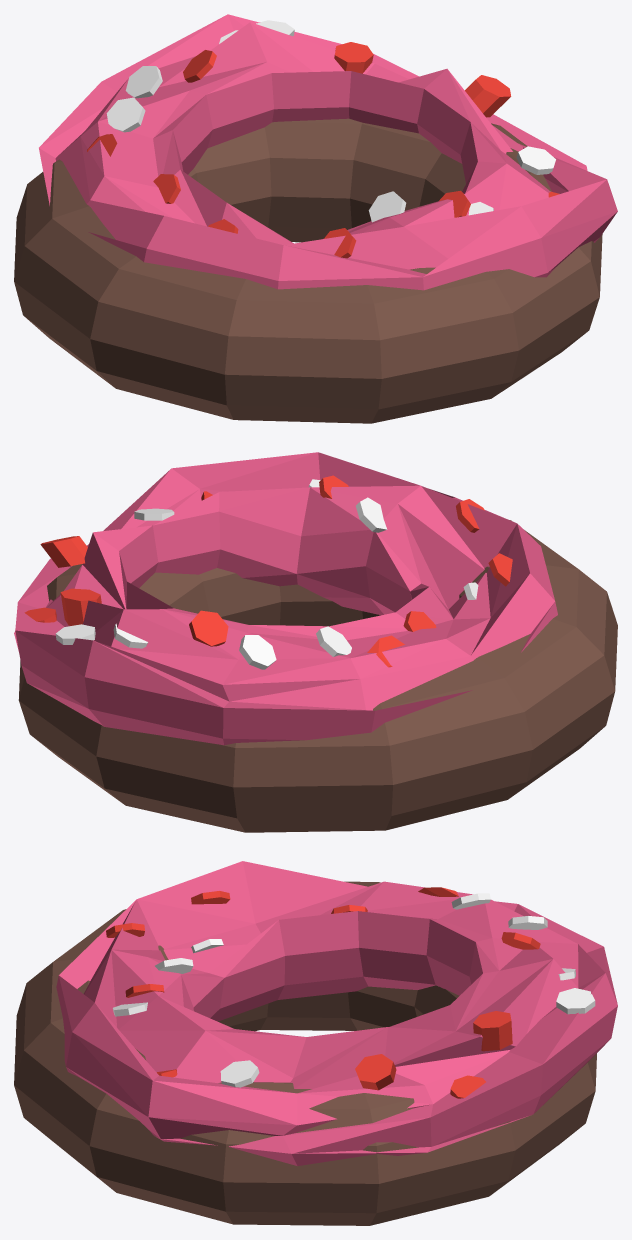
Rendered from Strawberryv2.obj.
3 renders of one model, top to bottom at view 1: azimuth 30°, elevation 25°; view 2: azimuth 150°, elevation 25°; view 3: azimuth 270°, elevation 25°, orthographic. The views are drawn at different scales.
Visible parts, largest first — view 1: group437848988, group188275230, group2049148859, group1369366076, group767592055, group1409136165, group1904270632, group1543479735, group158382819, group1597749306; view 2: group188275230, group437848988, group158382819, group2049148859, group767592055, group1409136165, group1543479735, group1369366076, group194537141, group1055290708; view 3: group188275230, group437848988, group767592055, group2049148859, group194537141, group1904270632, group376773047, group158382819, group1409136165.
Boxes of the visible parts, x1=… form: group437848988: x1=14, y1=118, x2=602, y2=423; group188275230: x1=39, y1=14, x2=617, y2=290; group2049148859: x1=465, y1=75, x2=511, y2=117; group1369366076: x1=106, y1=97, x2=145, y2=132; group767592055: x1=334, y1=42, x2=373, y2=73; group1409136165: x1=125, y1=66, x2=162, y2=98; group1904270632: x1=516, y1=146, x2=555, y2=174; group1543479735: x1=368, y1=191, x2=406, y2=222; group158382819: x1=183, y1=50, x2=216, y2=82; group1597749306: x1=153, y1=174, x2=180, y2=203; group188275230: x1=14, y1=452, x2=557, y2=745; group437848988: x1=18, y1=520, x2=617, y2=832; group158382819: x1=189, y1=610, x2=228, y2=646; group2049148859: x1=40, y1=536, x2=87, y2=567; group767592055: x1=60, y1=588, x2=101, y2=625; group1409136165: x1=239, y1=635, x2=276, y2=669; group1543479735: x1=356, y1=497, x2=387, y2=532; group1369366076: x1=316, y1=626, x2=351, y2=656; group194537141: x1=55, y1=624, x2=95, y2=644; group1055290708: x1=488, y1=553, x2=512, y2=586; group188275230: x1=56, y1=861, x2=617, y2=1166; group437848988: x1=14, y1=881, x2=596, y2=1225; group767592055: x1=473, y1=1011, x2=512, y2=1051; group2049148859: x1=355, y1=1054, x2=396, y2=1090; group194537141: x1=556, y1=988, x2=595, y2=1014; group1904270632: x1=220, y1=1060, x2=259, y2=1087; group376773047: x1=450, y1=1075, x2=485, y2=1098; group158382819: x1=501, y1=932, x2=540, y2=949; group1409136165: x1=508, y1=916, x2=547, y2=929.
Bounding box in the file's own units: 0.4502 × 0.1652 × 0.4513.
